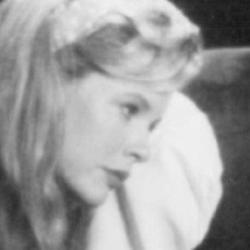face: (3, 1, 203, 225)
